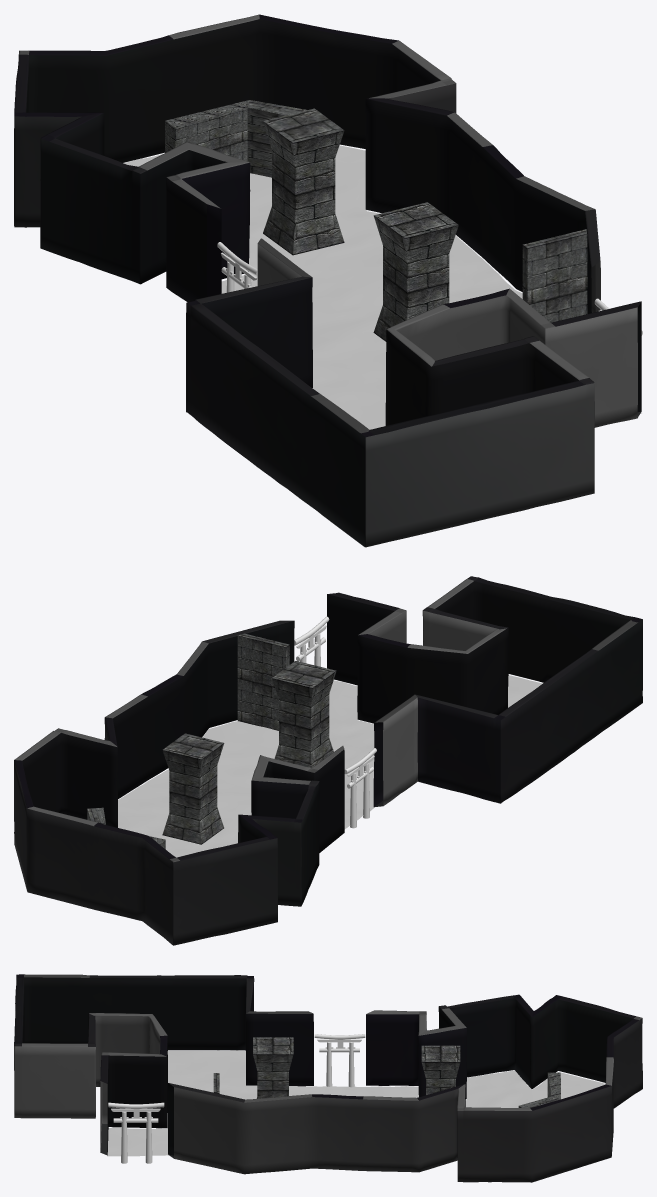
Rendered from BOSSMAP.fbx.
3 renders of one model, top to bottom at view 1: azimuth 30°, elevation 25°; view 2: azimuth 150°, elevation 25°; view 3: azimuth 270°, elevation 25°, orthographic. The views are drawn at different scales.
Visible parts, largest first — view 1: Wall.006, Wall.005, Cube.032, Cube.027, Cube.026, Cube.028, Torri Gate_Boss.002; view 2: Wall.006, Wall.005, Cube.032, Cube.027, Cube.028, Torri Gate_Boss.002, Torri Gate_blocked.002; view 3: Wall.006, Wall.005, Cube.027, Cube.032, Torri Gate_blocked.002, Torri Gate_Boss.002, Cube.026.
Part boxes in pixels (<box>): Wall.006: <box>14,14,641,547</box>; Wall.005: <box>124,145,641,429</box>; Cube.032: <box>263,108,344,255</box>; Cube.027: <box>373,202,458,341</box>; Cube.026: <box>165,100,307,177</box>; Cube.028: <box>522,229,587,322</box>; Torri Gate_Boss.002: <box>217,242,257,292</box>; Wall.006: <box>14,576,642,945</box>; Wall.005: <box>118,675,542,857</box>; Cube.032: <box>162,733,224,844</box>; Cube.027: <box>272,661,336,767</box>; Cube.028: <box>237,633,289,730</box>; Torri Gate_Boss.002: <box>344,748,376,828</box>; Torri Gate_blocked.002: <box>294,616,329,666</box>; Wall.006: <box>14,974,642,1182</box>; Wall.005: <box>107,1050,605,1156</box>; Cube.027: <box>253,1037,293,1098</box>; Cube.032: <box>421,1045,460,1094</box>; Torri Gate_blocked.002: <box>108,1102,164,1163</box>; Torri Gate_Boss.002: <box>314,1034,365,1087</box>; Cube.026: <box>518,1072,560,1107</box>.
Size of the model in its own units: 4642 by 1361 by 9032.
